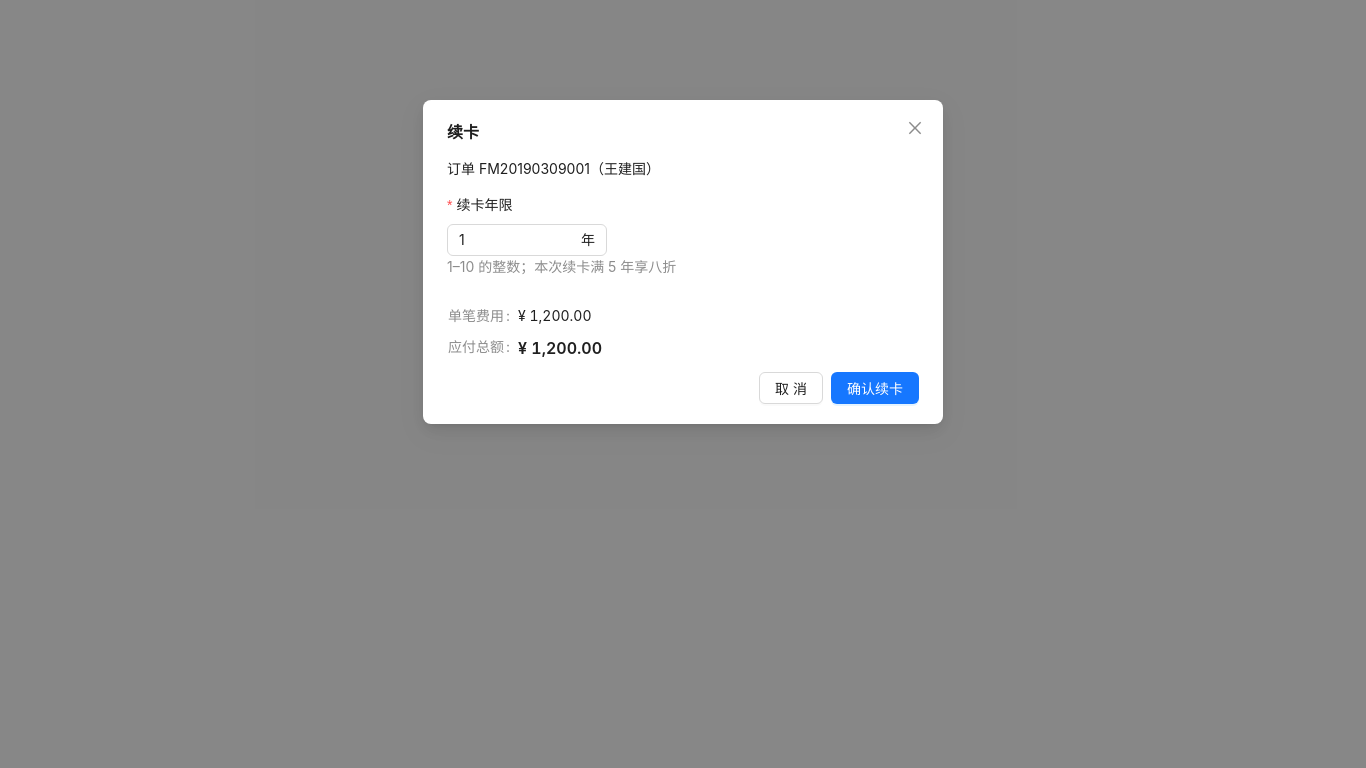
费用展示 › 年限输入 "0"：提示错误，不显示价格，不发送请求
Replace the text in the number field labelled "续卡年限" with "0" at point(518, 240), box [459,225,577,255]
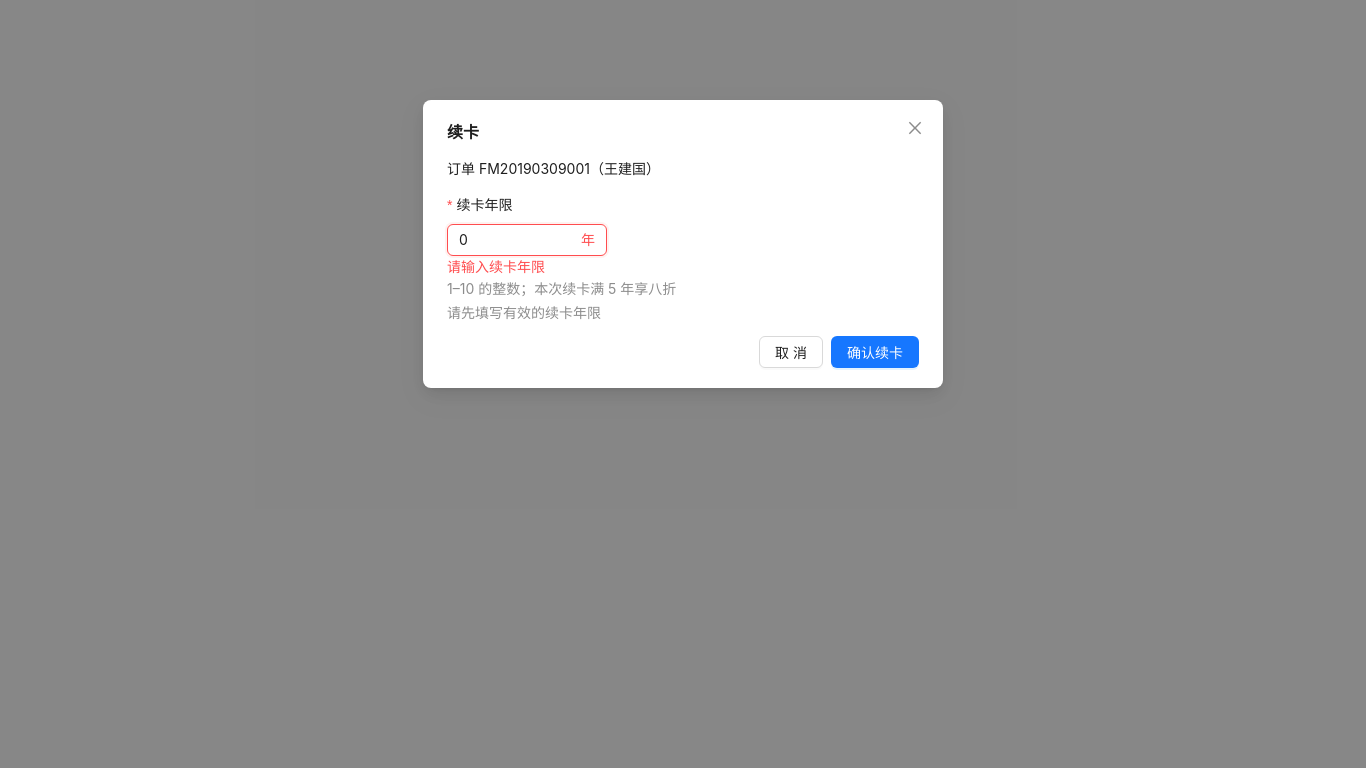
Expected: the text "请先填写有效的续卡年限" is shown, [447,304,601,321]
Click the button "确认续卡".
click(875, 352)  # box [831,336,919,368]
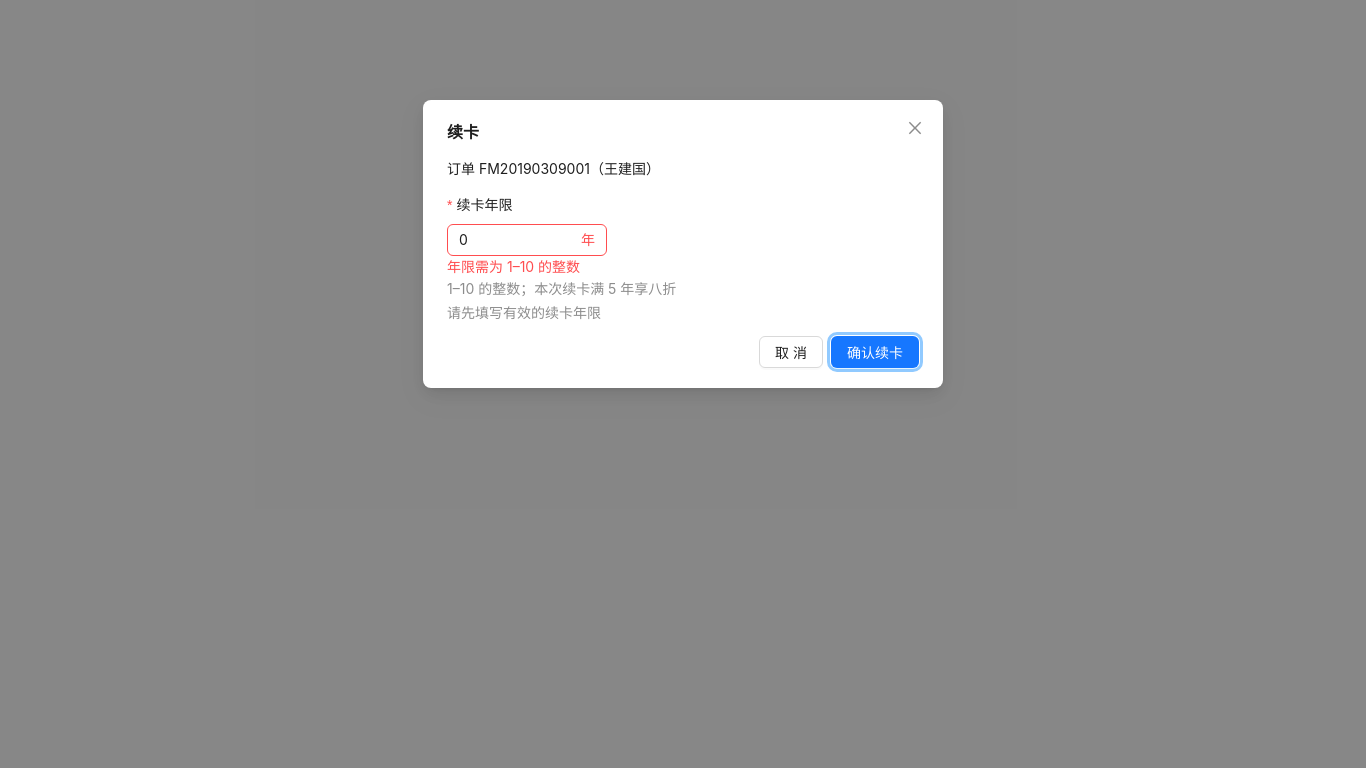
Expected: the text "年限需为 1–10 的整数" is shown, [447,258,580,275]
